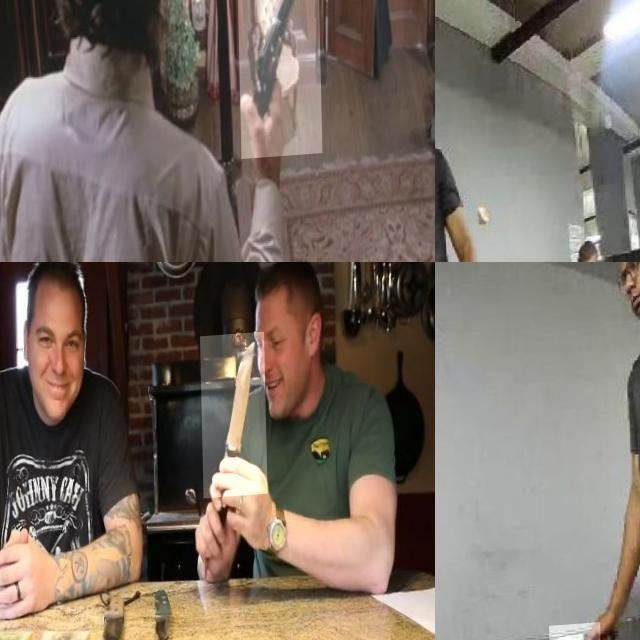-: (199, 338, 266, 504), (546, 627, 598, 640)
gun-knife-thesis - v11 Yolov5 augmented: (235, 0, 320, 163)
